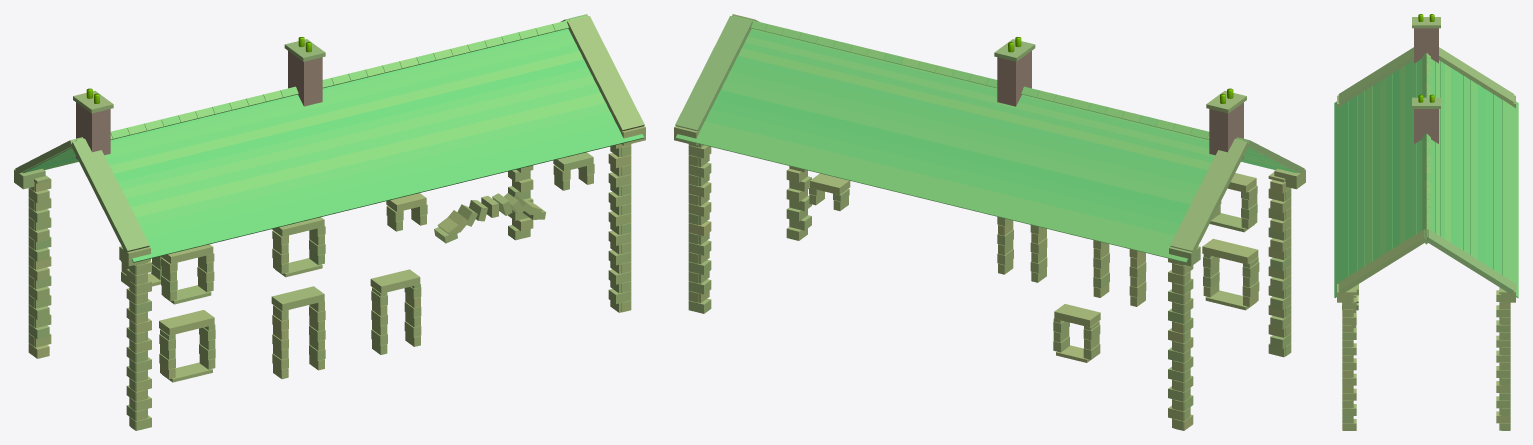
Rendered from SM_Bld_032_Stone.glb.
The picture shows the model from 3 angles, left to right: view 1: azimuth 30°, elevation 25°; view 2: azimuth 150°, elevation 25°; view 3: azimuth 270°, elevation 25°; orthographic projection. The views are drawn at different scales.
Visible parts, largest first — view 1: SM_Bld_032_Stone; view 2: SM_Bld_032_Stone; view 3: SM_Bld_032_Stone.
Part boxes in pixels (<box>): SM_Bld_032_Stone: <box>14,14,645,430</box>; SM_Bld_032_Stone: <box>674,14,1305,430</box>; SM_Bld_032_Stone: <box>1334,14,1518,430</box>.
Bounding box in the file's own units: 16.72 × 9.16 × 6.61.
